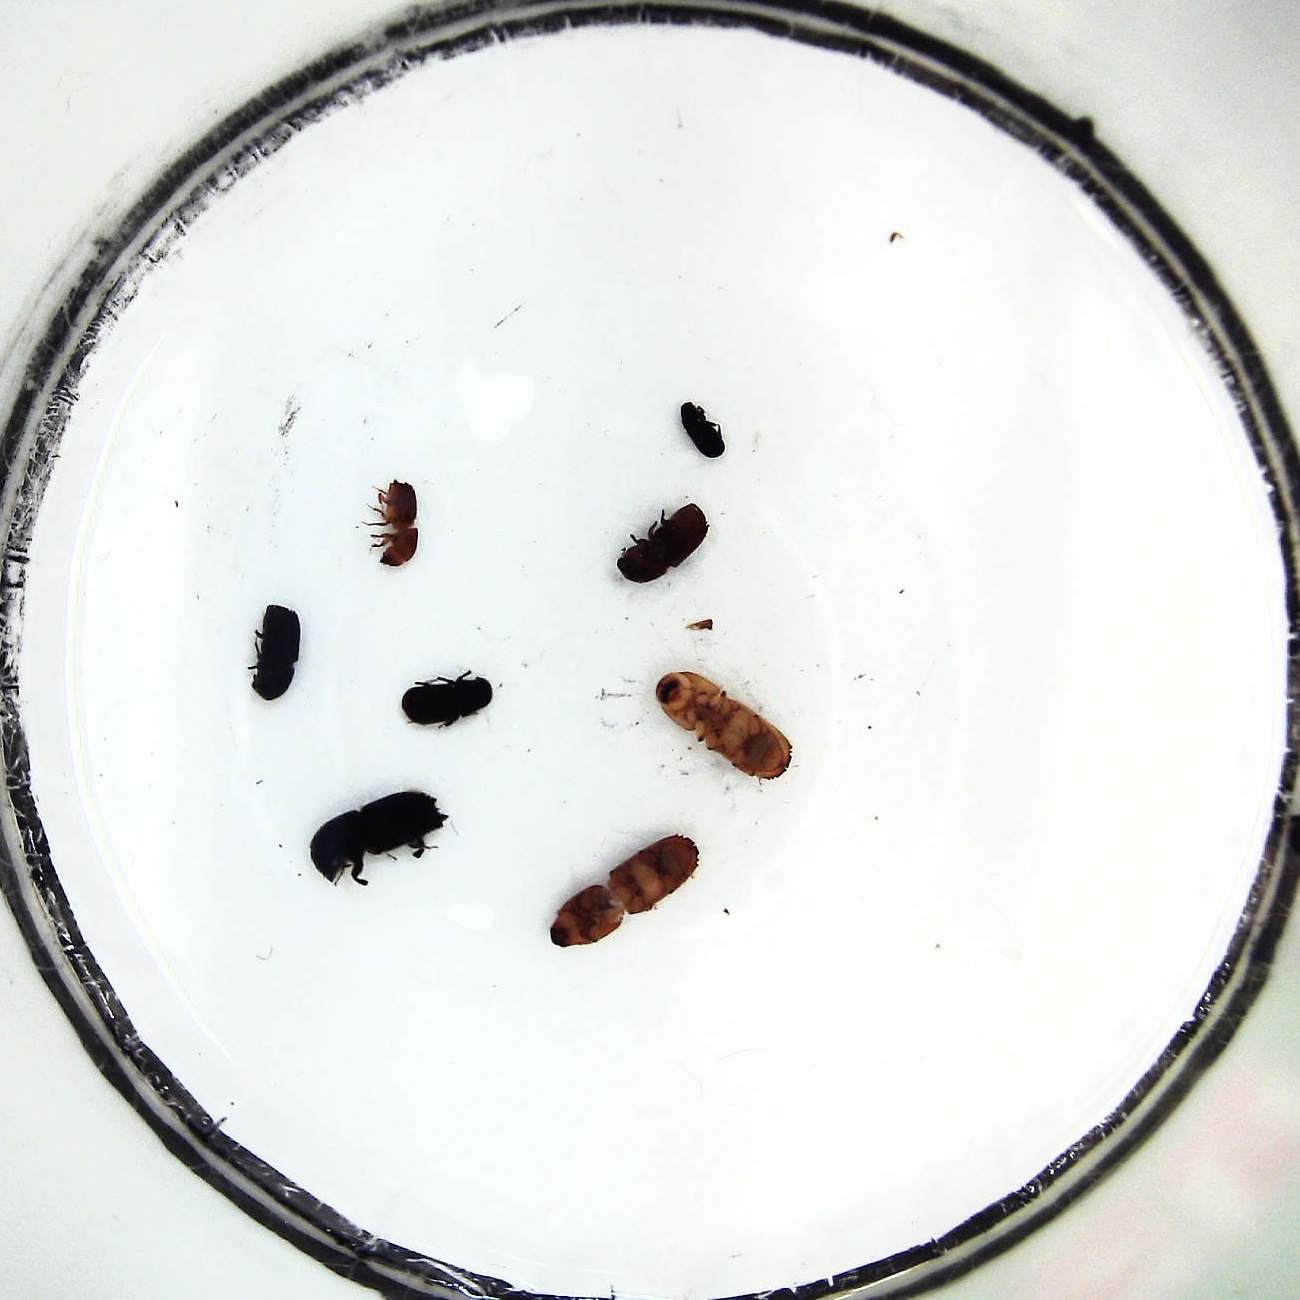Boerner: (546, 833, 700, 951), (657, 671, 793, 785), (306, 792, 446, 885)
Linnaeus: (614, 500, 710, 587), (239, 602, 298, 704)
acuminatus: (365, 476, 423, 576)
armandi: (393, 671, 495, 731)
coleoptera: (679, 395, 731, 461)
